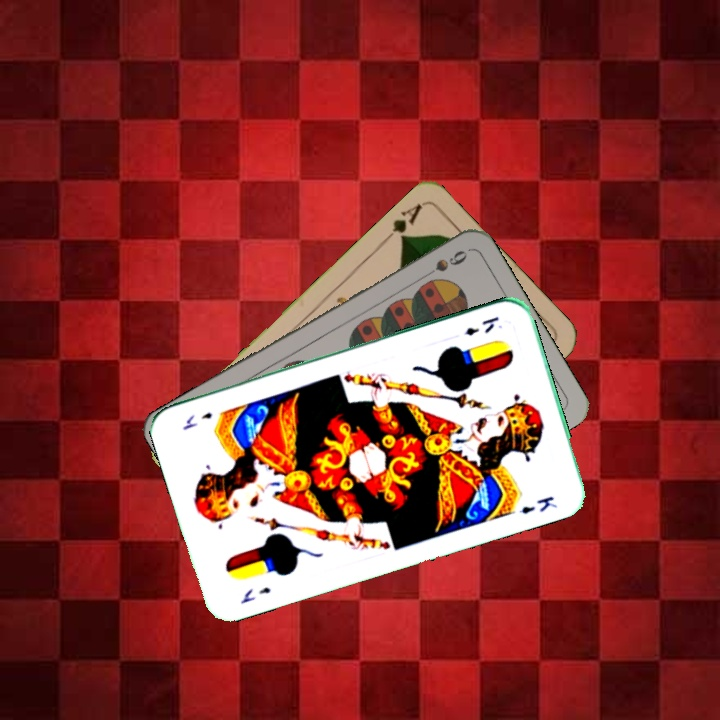EK: (461, 312, 502, 339), (236, 582, 274, 607)
GA: (378, 199, 425, 246)
S9: (416, 246, 470, 283)
